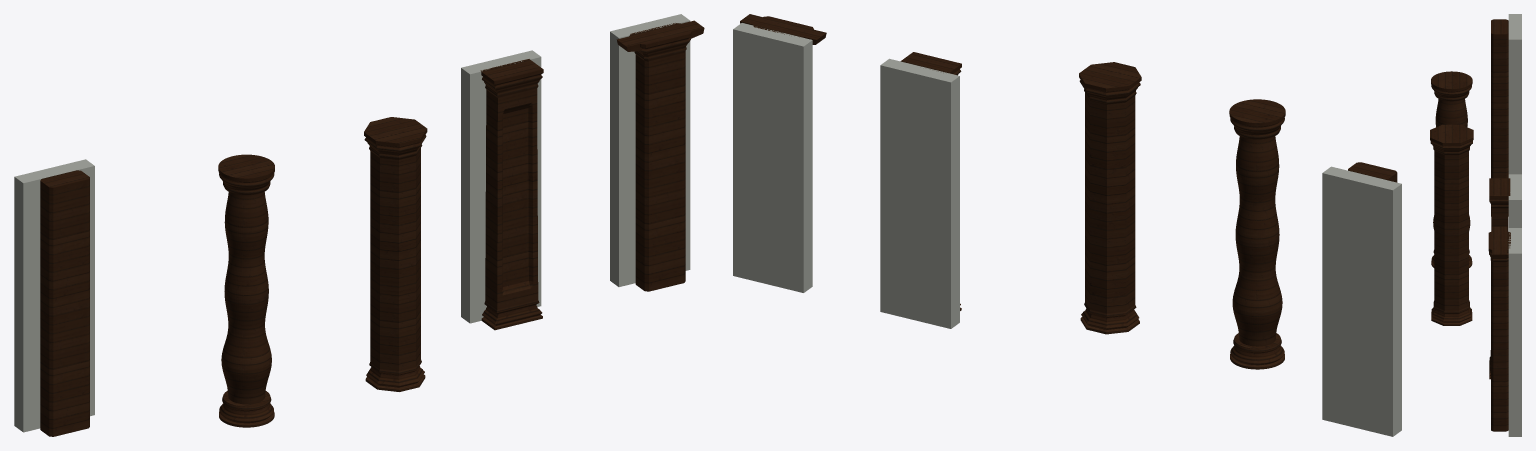
Rendered from building.glb.
3 views of the same model, side by side, from view 1: azimuth 30°, elevation 25°; view 2: azimuth 150°, elevation 25°; view 3: azimuth 270°, elevation 25° (orthographic). The views are drawn at different scales.
Visible parts, largest first — view 1: vertical_member/madera_chamfered_post/member_shaft#0001, vertical_member/madera_saddle_post/member_shaft#0001, vertical_member/madera_joinery_pilaster/member_shaft#0001, vertical_member/madera_octagonal_post/member_shaft#0001, vertical_member/madera_turned_post/member_shaft#0001, display_backing#0001, display_backing#0003, display_backing#0002, vertical_member/madera_octagonal_post/member_capital#0001, vertical_member/madera_turned_post/member_capital#0001, vertical_member/madera_joinery_pilaster/member_capital#0001, vertical_member/madera_saddle_post/member_capital#0001 (+4 smaller); view 2: display_backing#0001, display_backing#0002, display_backing#0003, vertical_member/madera_octagonal_post/member_shaft#0001, vertical_member/madera_turned_post/member_shaft#0001, vertical_member/madera_octagonal_post/member_capital#0001, vertical_member/madera_turned_post/member_capital#0001, vertical_member/madera_turned_post/member_base#0001, vertical_member/madera_octagonal_post/member_base#0001, vertical_member/madera_joinery_pilaster/member_capital#0001, vertical_member/madera_saddle_post/member_capital#0001; view 3: vertical_member/madera_octagonal_post/member_shaft#0001, vertical_member/madera_saddle_post/member_shaft#0001, display_backing#0003, vertical_member/madera_chamfered_post/member_shaft#0001, display_backing#0001, vertical_member/madera_octagonal_post/member_capital#0001, vertical_member/madera_turned_post/member_capital#0001, vertical_member/madera_turned_post/member_shaft#0001, display_backing#0002, vertical_member/madera_octagonal_post/member_base#0001, vertical_member/madera_joinery_pilaster/member_capital#0001, vertical_member/madera_saddle_post/member_capital#0001 (+2 smaller).
Boxes of the visible parts, x1,y1,x2,y2 form: vertical_member/madera_chamfered_post/member_shaft#0001: [40, 170, 89, 436]; vertical_member/madera_saddle_post/member_shaft#0001: [635, 51, 685, 291]; vertical_member/madera_joinery_pilaster/member_shaft#0001: [485, 89, 538, 309]; vertical_member/madera_octagonal_post/member_shaft#0001: [370, 148, 420, 370]; vertical_member/madera_turned_post/member_shaft#0001: [221, 192, 271, 404]; display_backing#0001: [14, 159, 94, 432]; display_backing#0003: [610, 14, 690, 286]; display_backing#0002: [461, 50, 541, 323]; vertical_member/madera_octagonal_post/member_capital#0001: [364, 117, 427, 160]; vertical_member/madera_turned_post/member_capital#0001: [218, 154, 274, 195]; vertical_member/madera_joinery_pilaster/member_capital#0001: [480, 59, 543, 98]; vertical_member/madera_saddle_post/member_capital#0001: [629, 23, 691, 61]; display_backing#0001: [1322, 166, 1401, 436]; display_backing#0002: [880, 58, 959, 328]; display_backing#0003: [733, 23, 812, 292]; vertical_member/madera_octagonal_post/member_shaft#0001: [1085, 93, 1135, 313]; vertical_member/madera_turned_post/member_shaft#0001: [1232, 136, 1282, 346]; vertical_member/madera_octagonal_post/member_capital#0001: [1079, 62, 1141, 104]; vertical_member/madera_turned_post/member_capital#0001: [1229, 99, 1285, 139]; vertical_member/madera_turned_post/member_base#0001: [1230, 333, 1284, 369]; vertical_member/madera_octagonal_post/member_base#0001: [1080, 302, 1139, 334]; vertical_member/madera_joinery_pilaster/member_capital#0001: [900, 52, 961, 75]; vertical_member/madera_saddle_post/member_capital#0001: [752, 16, 813, 37]; vertical_member/madera_octagonal_post/member_shaft#0001: [1434, 151, 1468, 310]; vertical_member/madera_saddle_post/member_shaft#0001: [1491, 261, 1508, 431]; display_backing#0003: [1508, 228, 1521, 436]; vertical_member/madera_chamfered_post/member_shaft#0001: [1491, 19, 1508, 216]; display_backing#0001: [1508, 14, 1521, 174]; vertical_member/madera_octagonal_post/member_capital#0001: [1430, 124, 1473, 155]; vertical_member/madera_turned_post/member_capital#0001: [1431, 71, 1472, 101]; vertical_member/madera_turned_post/member_shaft#0001: [1433, 99, 1470, 230]; display_backing#0002: [1508, 174, 1521, 227]; vertical_member/madera_octagonal_post/member_base#0001: [1431, 300, 1472, 325]; vertical_member/madera_joinery_pilaster/member_capital#0001: [1489, 178, 1510, 208]; vertical_member/madera_saddle_post/member_capital#0001: [1488, 231, 1510, 262].
Size of the model in its own units: 9 by 3.2 by 1.45.
Materials: 2 (1 with a texture image).
